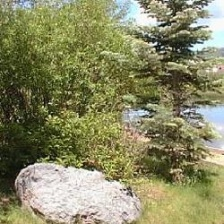neutral: (3, 3, 218, 216)
